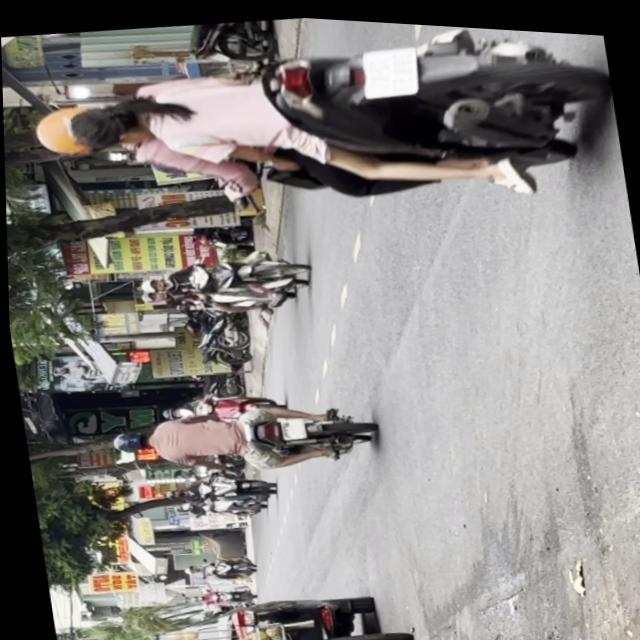helmet: (28, 96, 103, 162), (105, 425, 148, 455), (134, 272, 173, 294)
licenseplate: (17, 1, 622, 250), (100, 380, 376, 491), (129, 236, 313, 328)
motorcyclist: (61, 90, 156, 156)
nohelmet: (357, 40, 419, 95), (276, 413, 302, 437)
